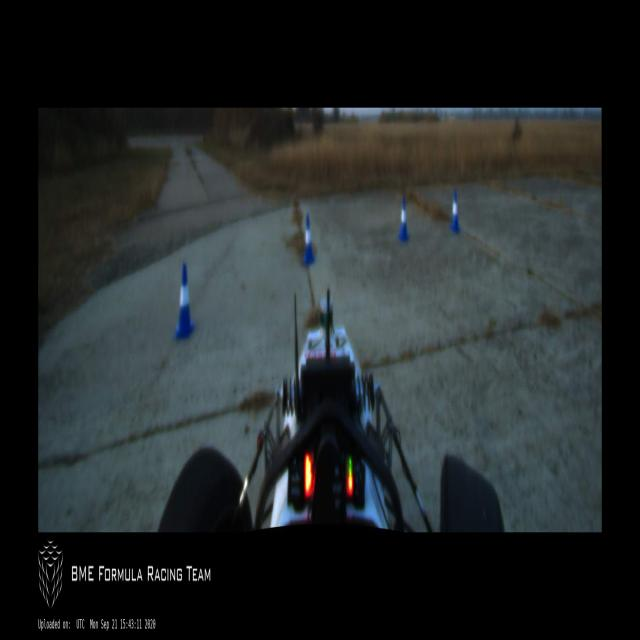blue_cone: (173, 262, 194, 342), (302, 216, 314, 267), (398, 198, 409, 242), (450, 190, 460, 233)
